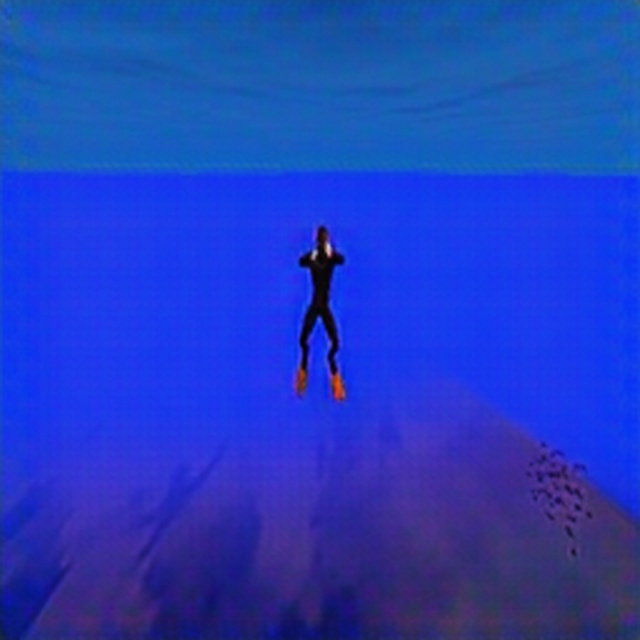diver: (292, 221, 348, 402)
